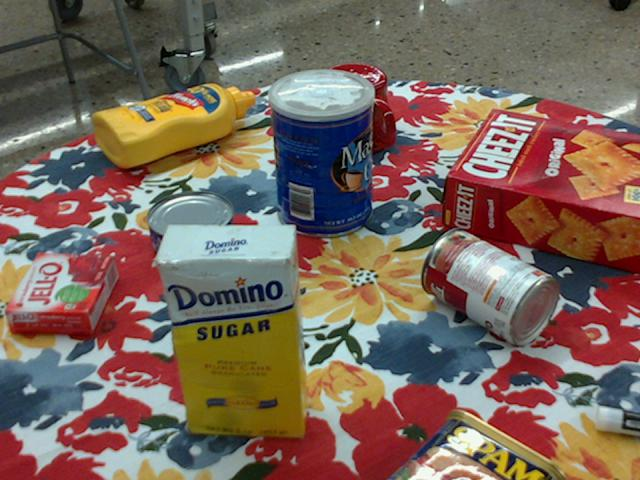cracker_box: (442, 109, 639, 274)
gelatin_box: (6, 255, 118, 337)
large_marker: (597, 403, 639, 434)
master_chef_can: (269, 69, 375, 238)
mug: (314, 64, 395, 157)
mustard_bottle: (90, 84, 253, 167)
potted_meat_can: (388, 408, 573, 479)
sugar_box: (152, 222, 310, 438)
tomato_soup_can: (422, 228, 561, 345)
tuna_fish_can: (145, 192, 233, 265)
